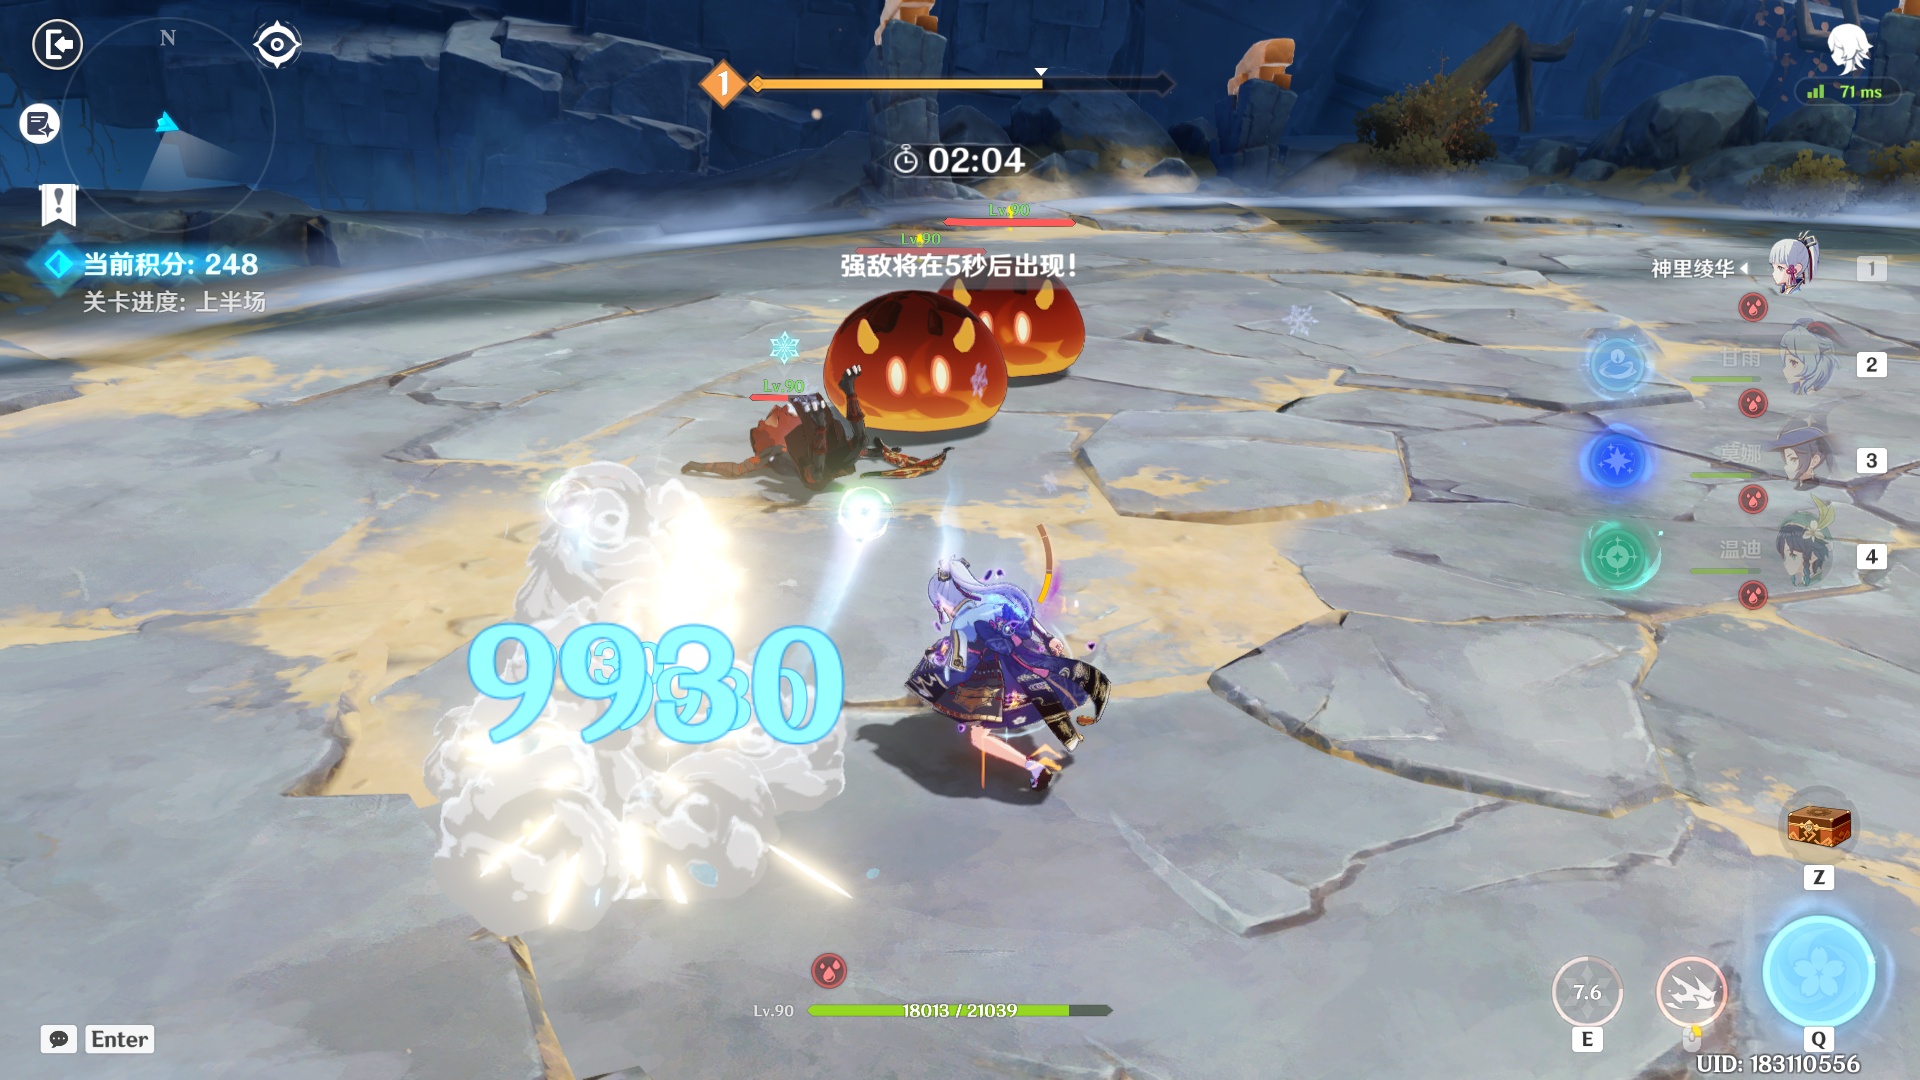character: (855, 517, 1129, 825)
hili: (670, 367, 926, 531)
slime: (796, 253, 1025, 435), (923, 239, 1106, 404)
